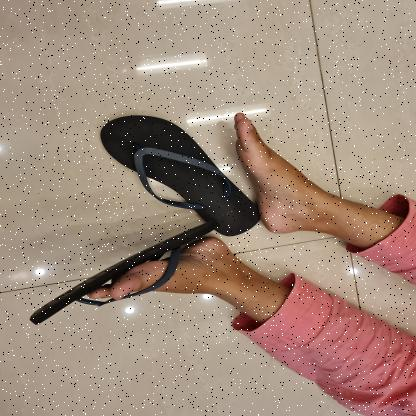leg: (23, 218, 288, 332), (223, 104, 399, 250)
